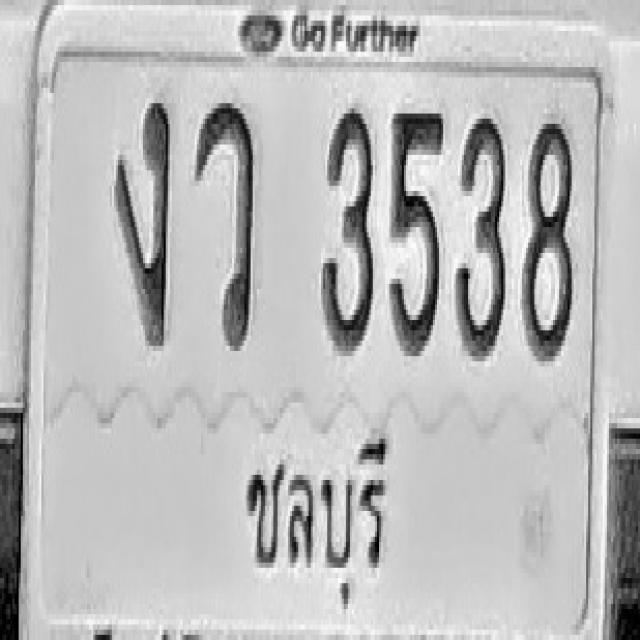16NgorNgu: (115, 98, 171, 346)
3: (454, 111, 506, 359), (321, 106, 373, 353)
46WorWaen: (194, 98, 254, 351)
5: (389, 109, 444, 356)
8: (522, 119, 572, 361)
Chonburi: (238, 426, 388, 619)
